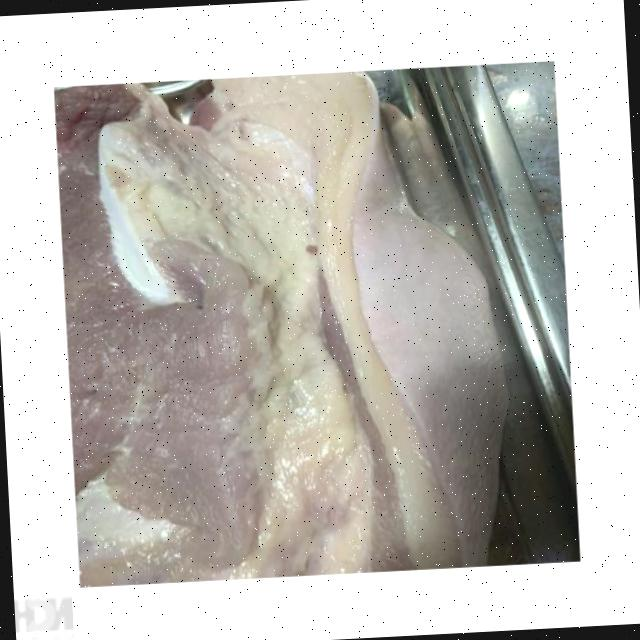rotten meat: (33, 33, 606, 599)
